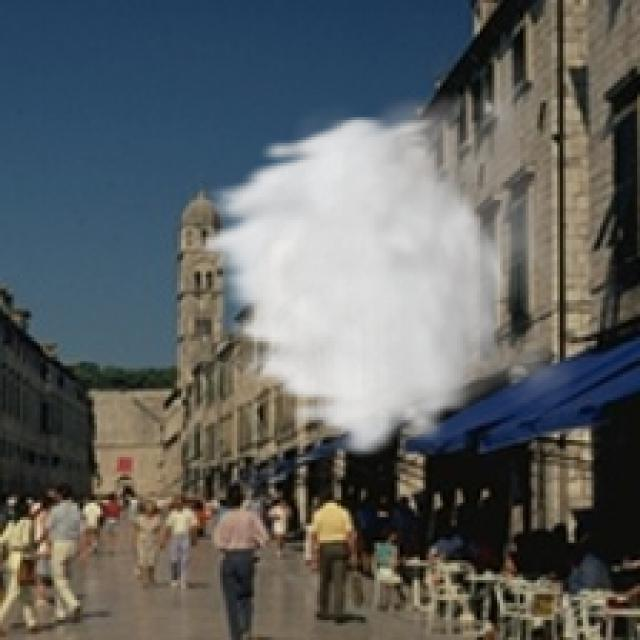smoke: (188, 40, 583, 460)
